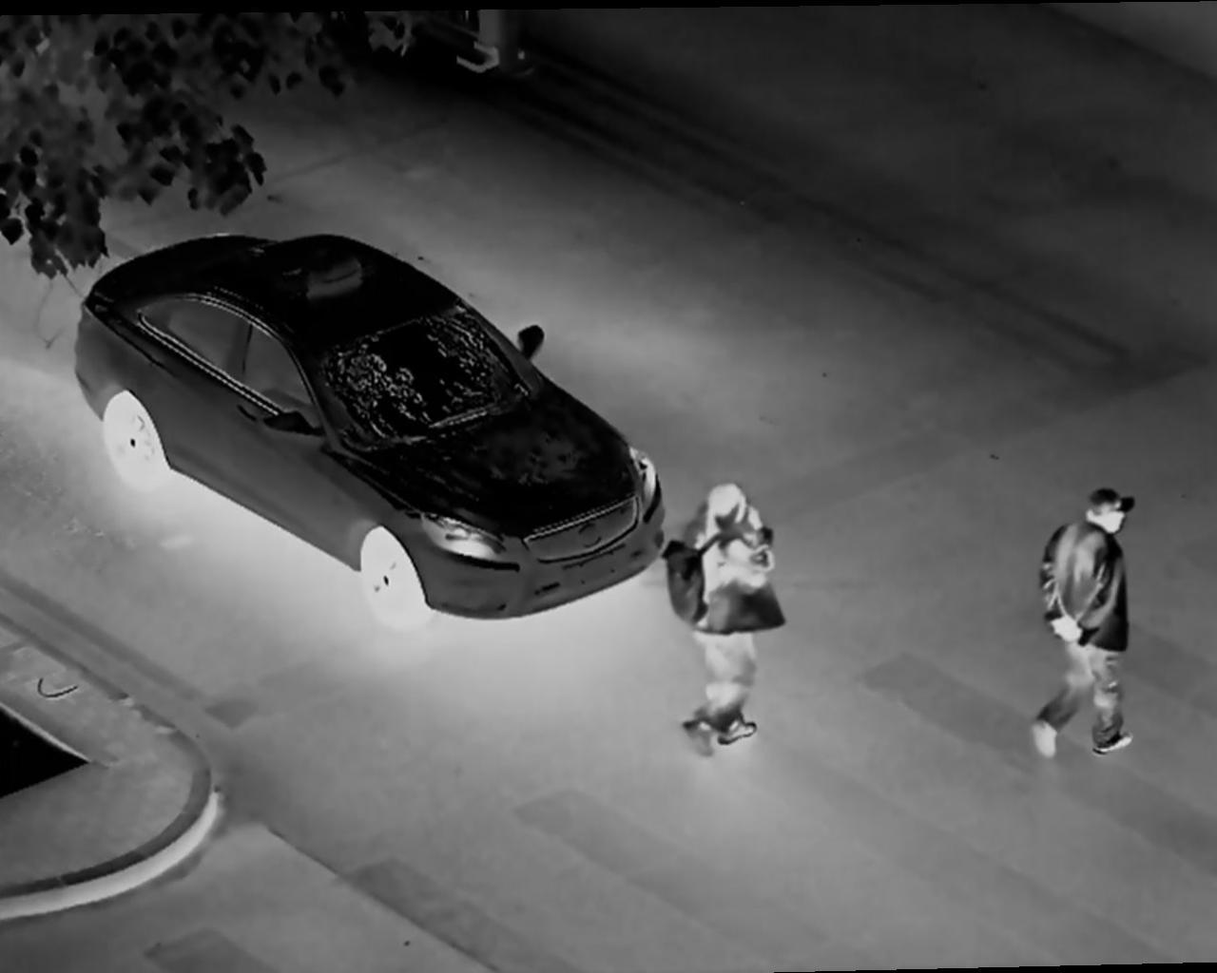person: (665, 486, 794, 757), (1028, 482, 1147, 770)
